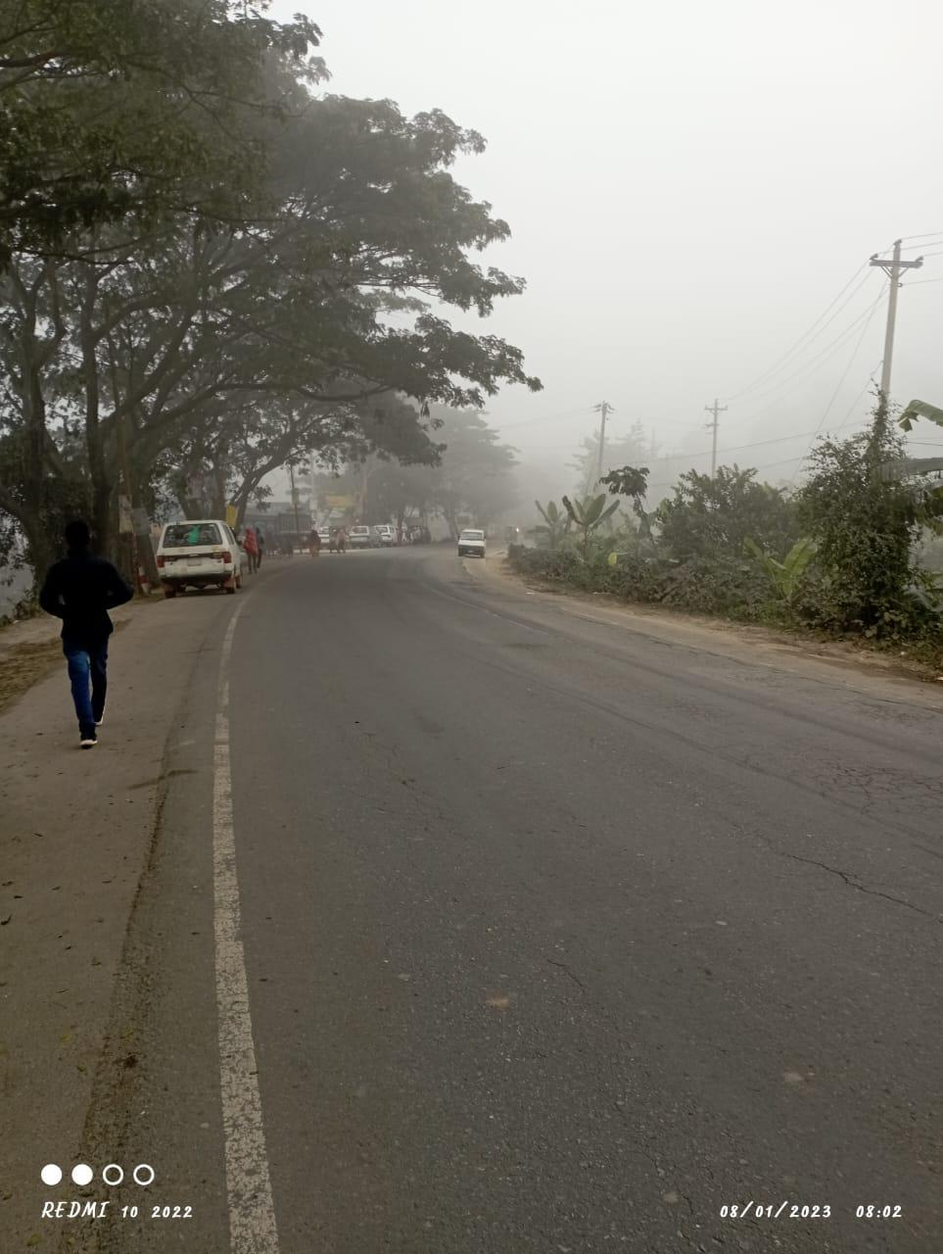Car: (138, 506, 255, 612), (447, 522, 498, 567)
